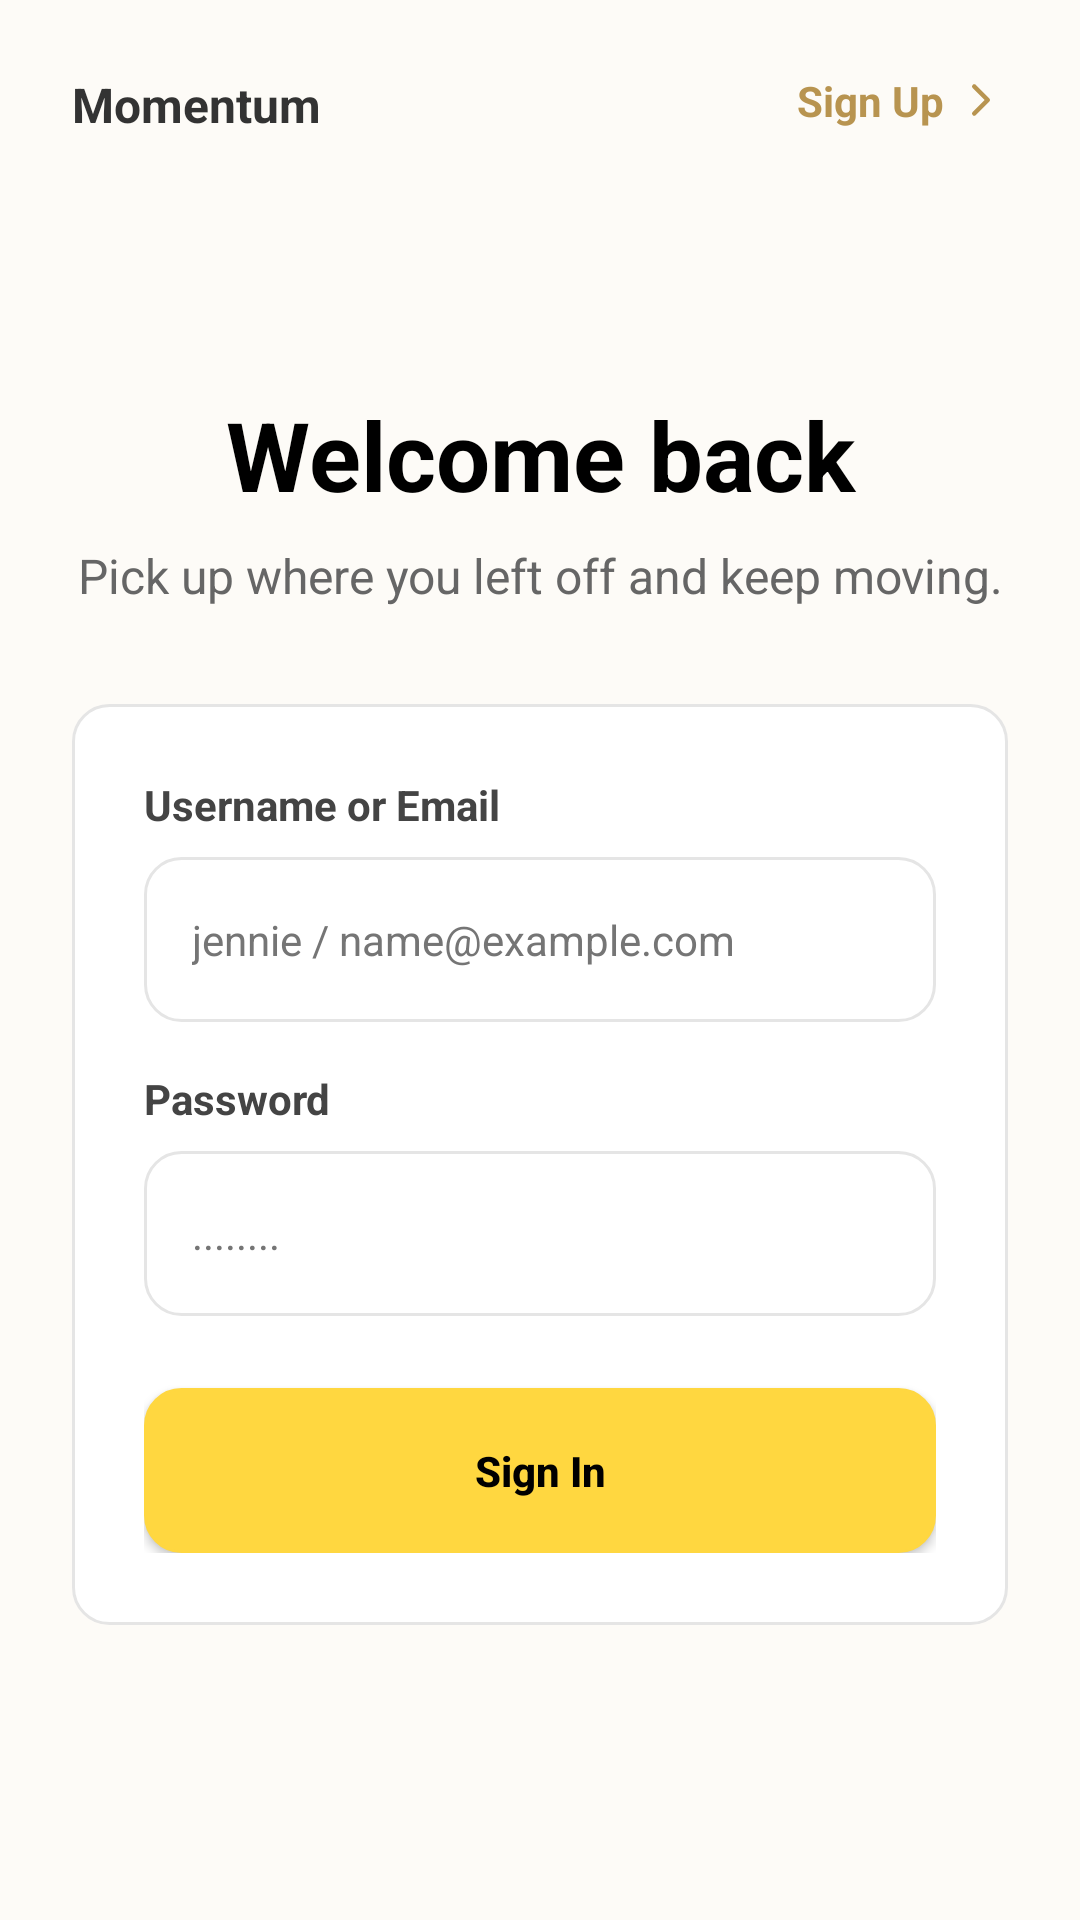

Icons on this 1080×1920 Android screen, each with its box as (x1, y1, x2, y2):
chevronright: (972, 84, 990, 116)
